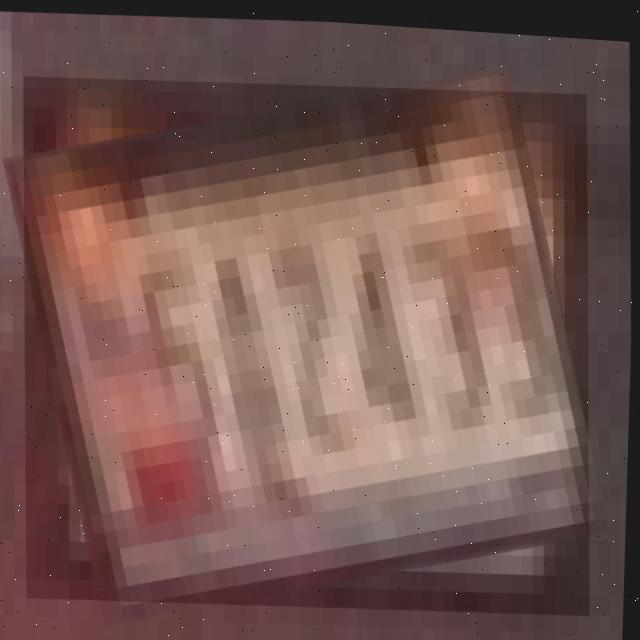LicensePlate: (11, 55, 605, 627)
